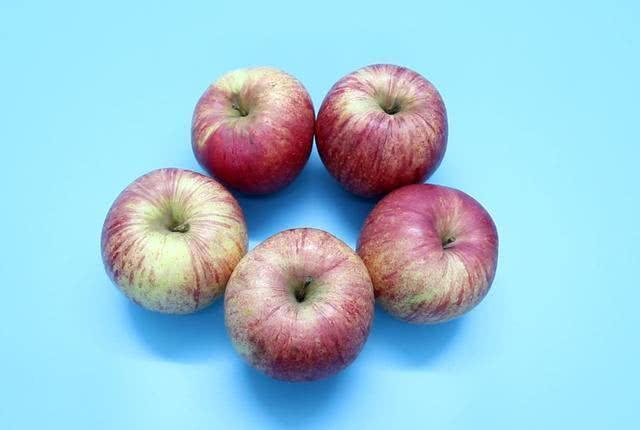apple: (219, 225, 374, 386), (100, 166, 248, 317), (356, 184, 497, 325), (311, 65, 444, 199), (189, 65, 315, 197)
